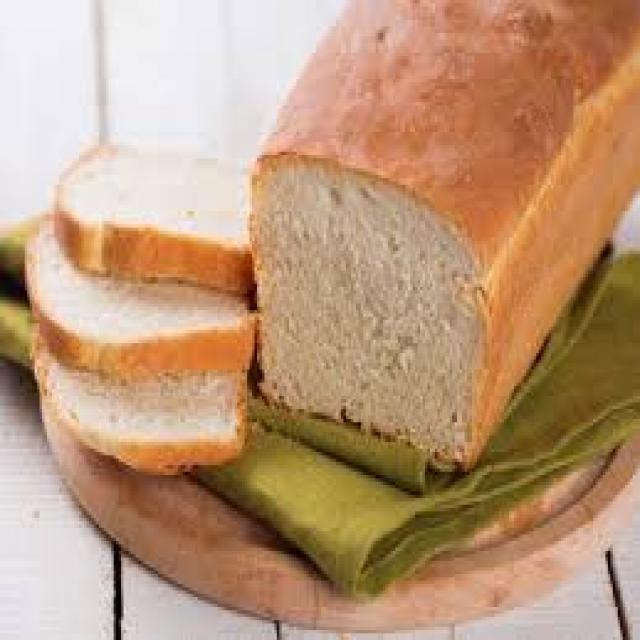bread: (249, 0, 640, 471)
